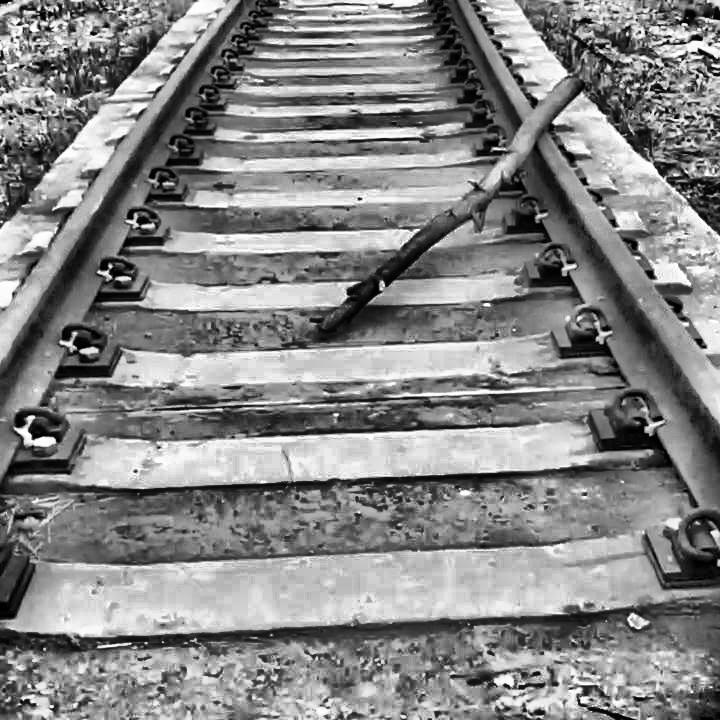Trash: (301, 68, 589, 334)
